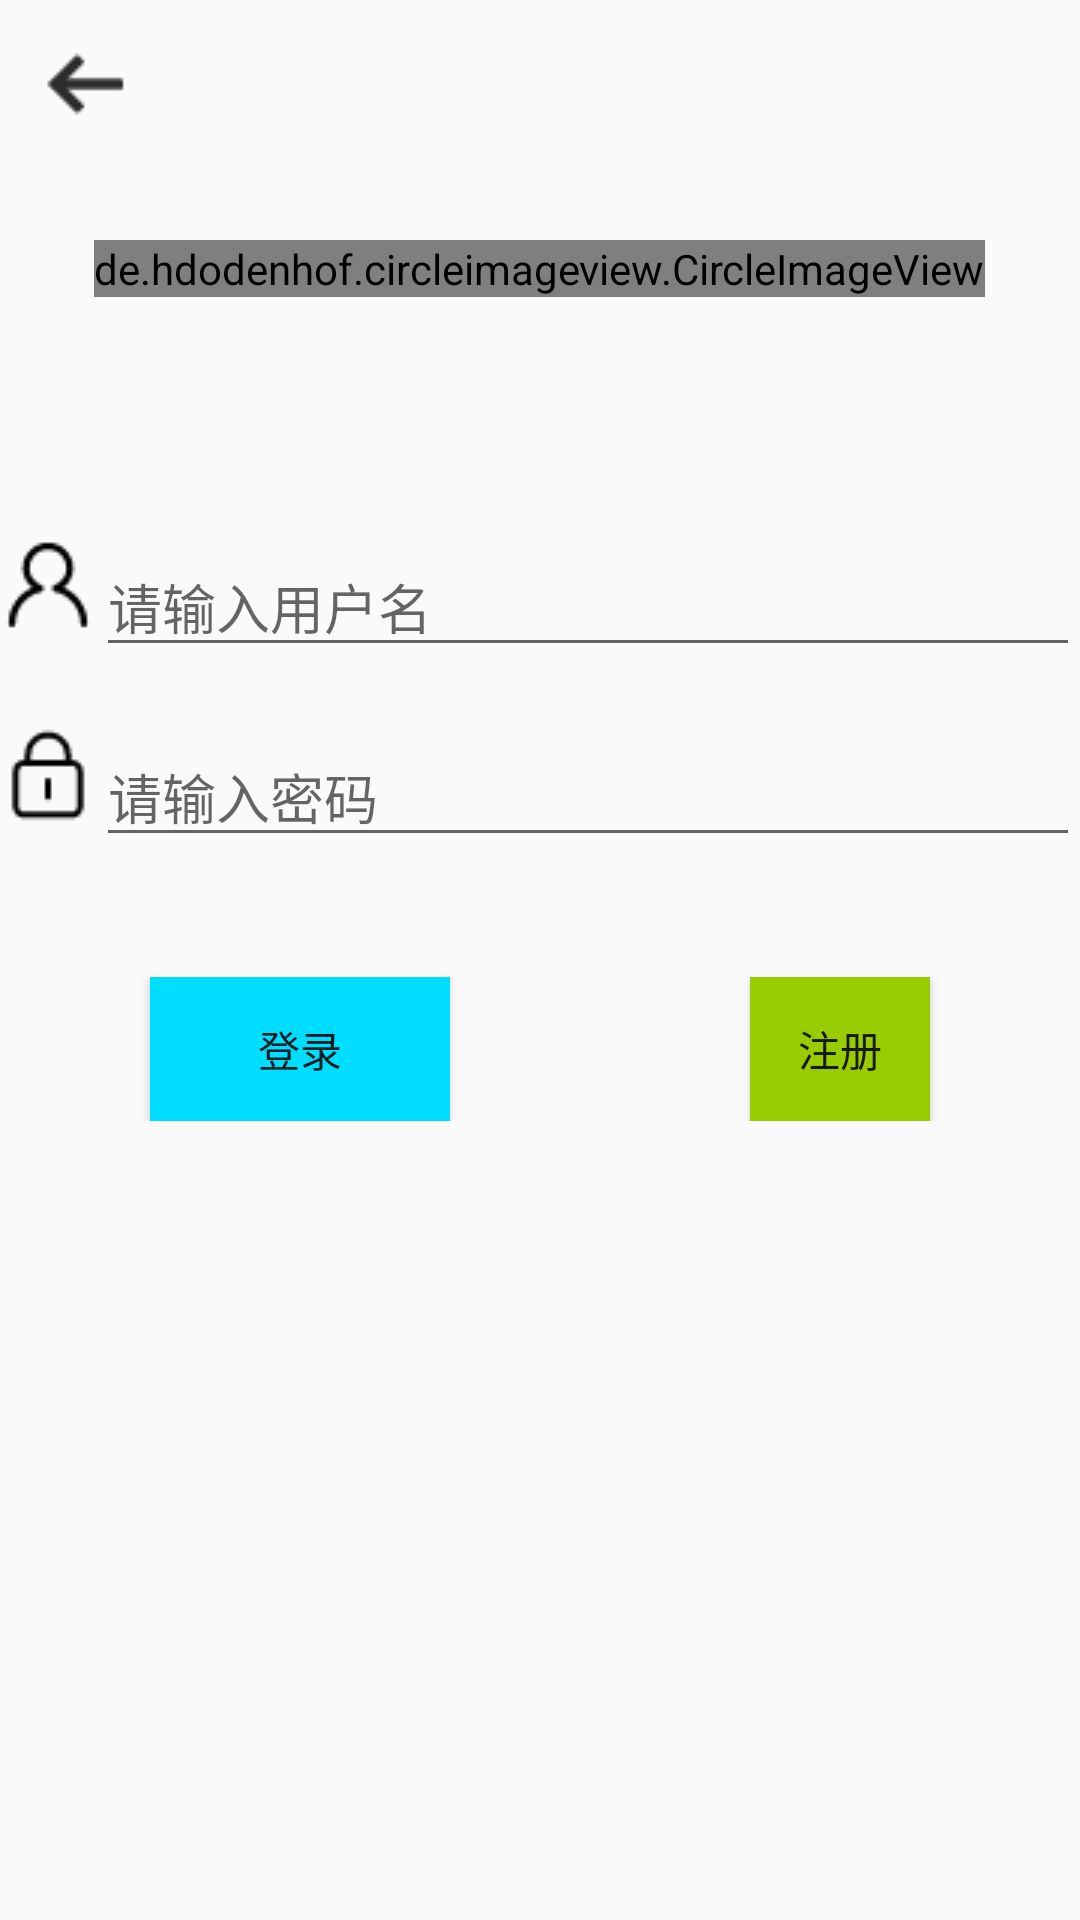

Icons on this 1080px×1920px Android screen, each with the point to tap as (x,y):
lock: (48,775)
user: (48,585)
